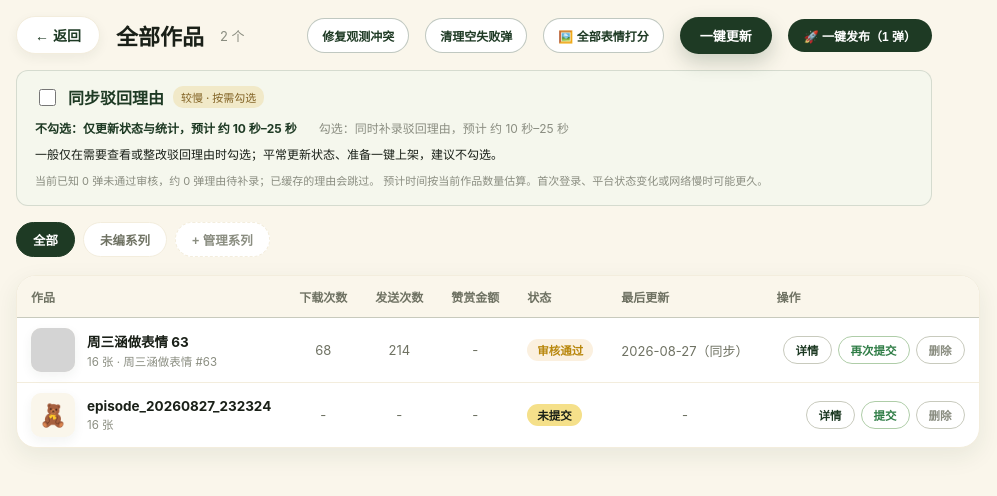
Test: 作品库微信风表格 › 预约上架结果与取消结果使用弹 cancelled=true
Click the button with class "shelf-btn": (860, 35) [788, 18, 932, 52]
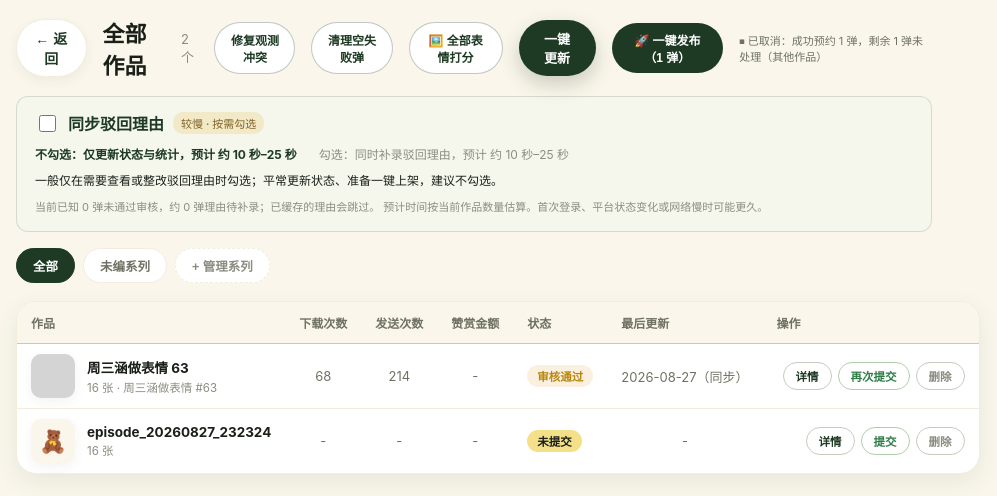
Expected: the text "成功预约 1 弹" is shown, [739, 34, 923, 64]
